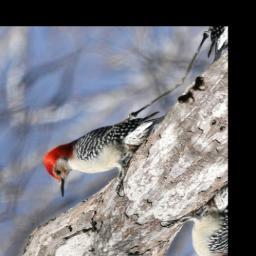Woodpecker: (24, 73, 193, 228)
